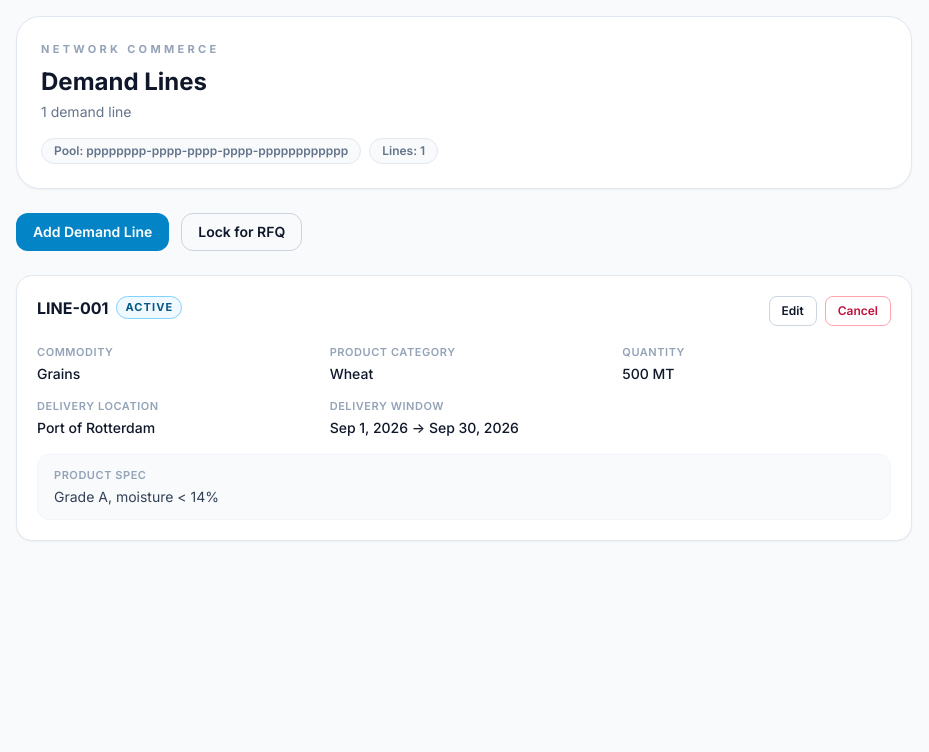
Test: DemandLineSurface — edit demand line › opens edit form with pre-populated fields when Edit is clicked
The image size is (929, 752).
Click the button "Edit" at {"x": 793, "y": 310}, box [768, 296, 817, 326]
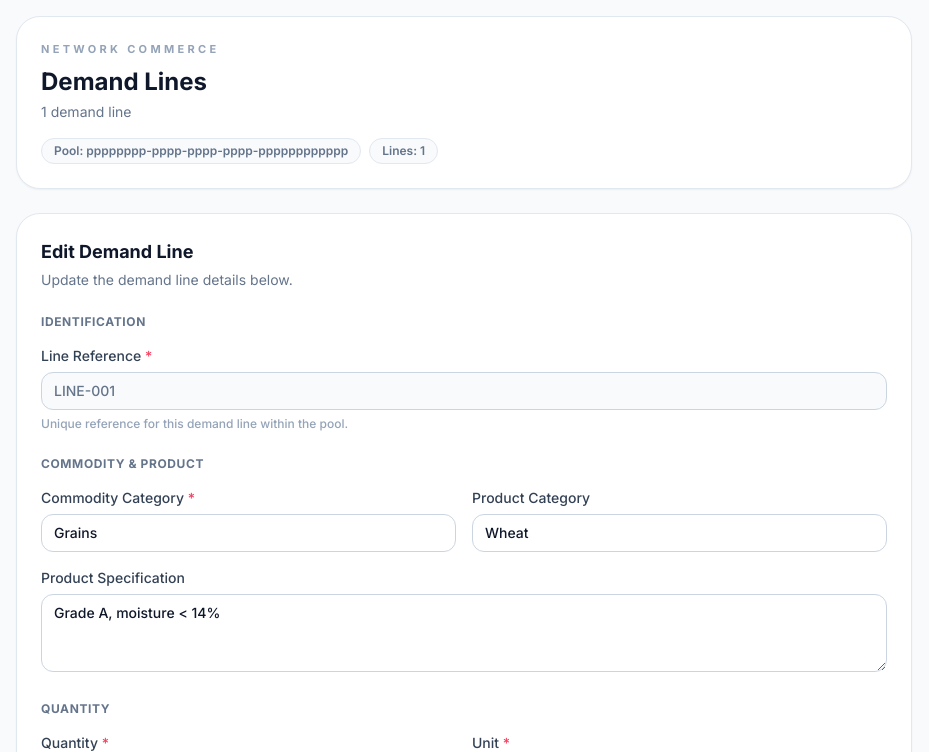
Expected: the heading "Edit Demand Line" is shown, [41, 240, 193, 262]
Expected: the field with placeholder "e.g. LINE-001" is disabled, [41, 372, 887, 410]
